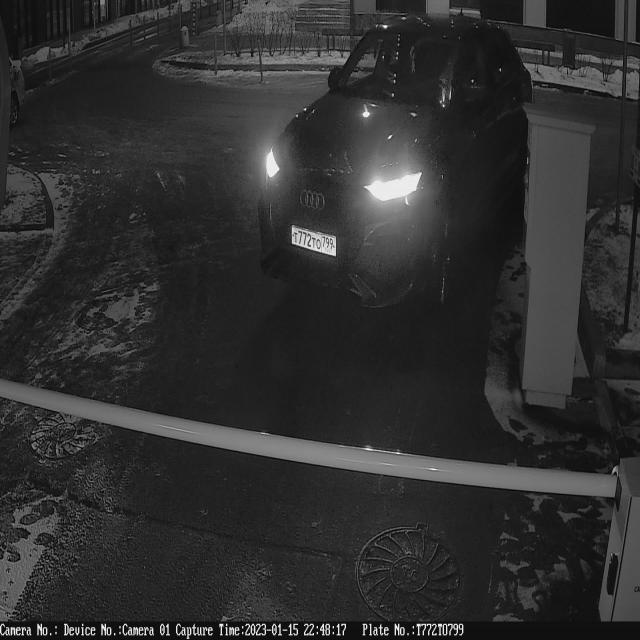car-plate-numbers: (290, 222, 340, 261)
